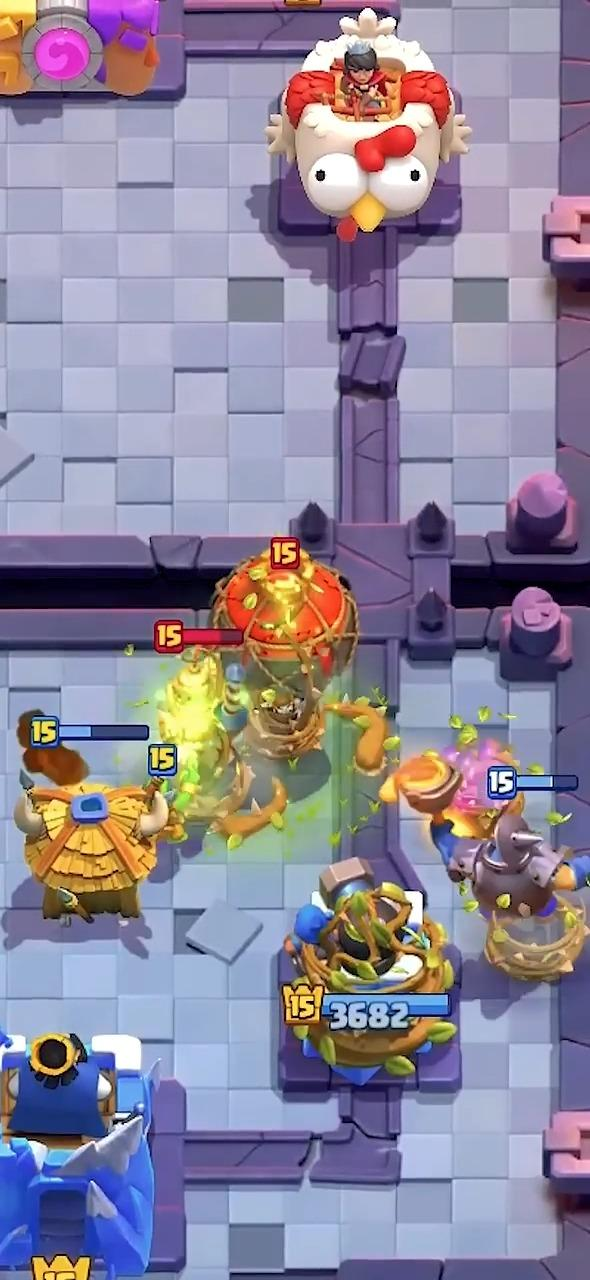baloon: (212, 548, 357, 687)
furnace: (380, 752, 589, 917)
goblin hut: (14, 764, 169, 922)
prince: (159, 648, 247, 757)
vines: (484, 875, 589, 983), (303, 1017, 441, 1074), (245, 671, 323, 760)
